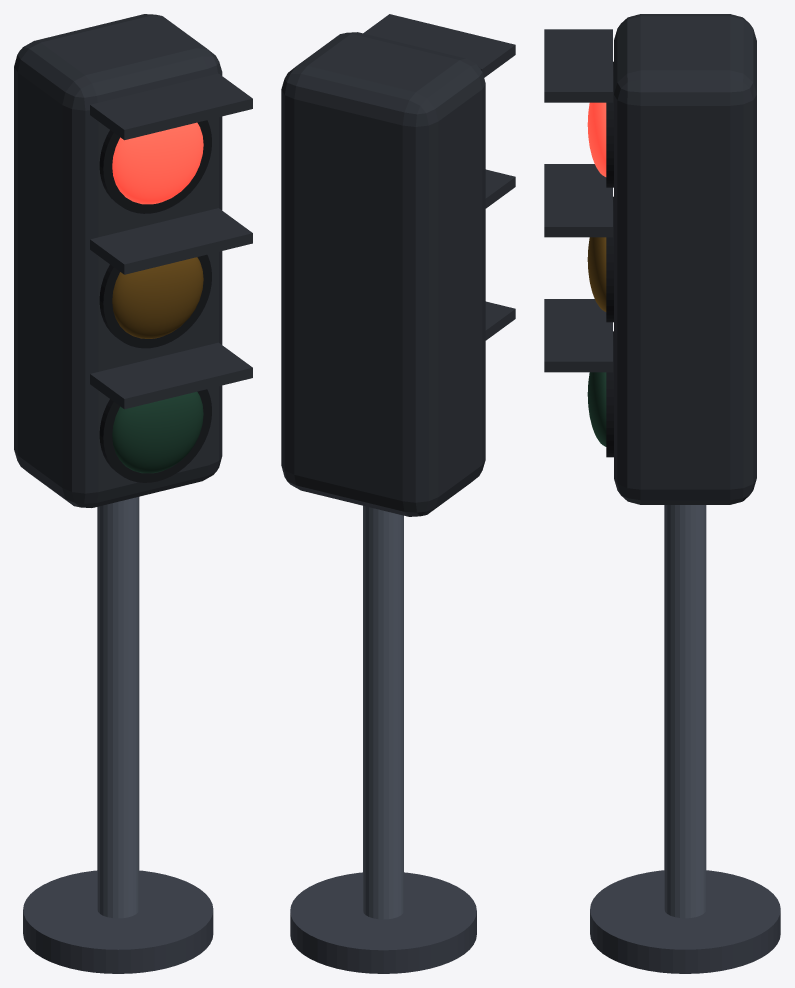
The model's file is semaforo.glb.
3 renders of one model, left to right at view 1: azimuth 30°, elevation 25°; view 2: azimuth 150°, elevation 25°; view 3: azimuth 270°, elevation 25°, orthographic. The views are drawn at different scales.
Parts seen in each view (by area): view 1: Cube, Cylinder.001, Cylinder, Cube.001, Cube.002, Cube.003, Sphere, Sphere.002, Sphere.001, Cylinder.003, Cylinder.002, Cylinder.004; view 2: Cube, Cylinder.001, Cylinder, Cube.001, Cube.002, Cube.003; view 3: Cube, Cylinder.001, Cylinder, Cube.001, Cube.003, Cube.002, Sphere, Sphere.001, Sphere.002, Cylinder.002, Cylinder.003, Cylinder.004.
Part boxes in pixels (x1,y1,x2,y2): Cube: [14, 14, 222, 507]; Cylinder.001: [97, 497, 139, 918]; Cylinder: [23, 870, 213, 973]; Cube.001: [90, 73, 252, 140]; Cube.002: [90, 208, 252, 274]; Cube.003: [90, 342, 252, 409]; Sphere: [112, 122, 203, 204]; Sphere.002: [112, 391, 203, 473]; Sphere.001: [112, 257, 203, 338]; Cylinder.003: [99, 254, 211, 348]; Cylinder.002: [99, 120, 211, 213]; Cylinder.004: [99, 389, 211, 482]; Cube: [281, 32, 485, 516]; Cylinder.001: [363, 505, 403, 919]; Cylinder: [290, 872, 476, 973]; Cube.001: [363, 14, 515, 77]; Cube.002: [485, 169, 515, 208]; Cube.003: [485, 301, 515, 340]; Cube: [614, 14, 756, 504]; Cylinder.001: [664, 505, 706, 918]; Cylinder: [590, 870, 780, 973]; Cube.001: [544, 29, 612, 102]; Cube.003: [544, 299, 612, 372]; Cube.002: [544, 164, 612, 237]; Sphere: [587, 102, 606, 176]; Sphere.001: [587, 237, 606, 311]; Sphere.002: [587, 372, 606, 446]; Cylinder.002: [606, 61, 613, 187]; Cylinder.003: [606, 196, 613, 322]; Cylinder.004: [606, 331, 613, 457].
Bounding box in the file's own units: 1 × 5.15 × 1.24.
